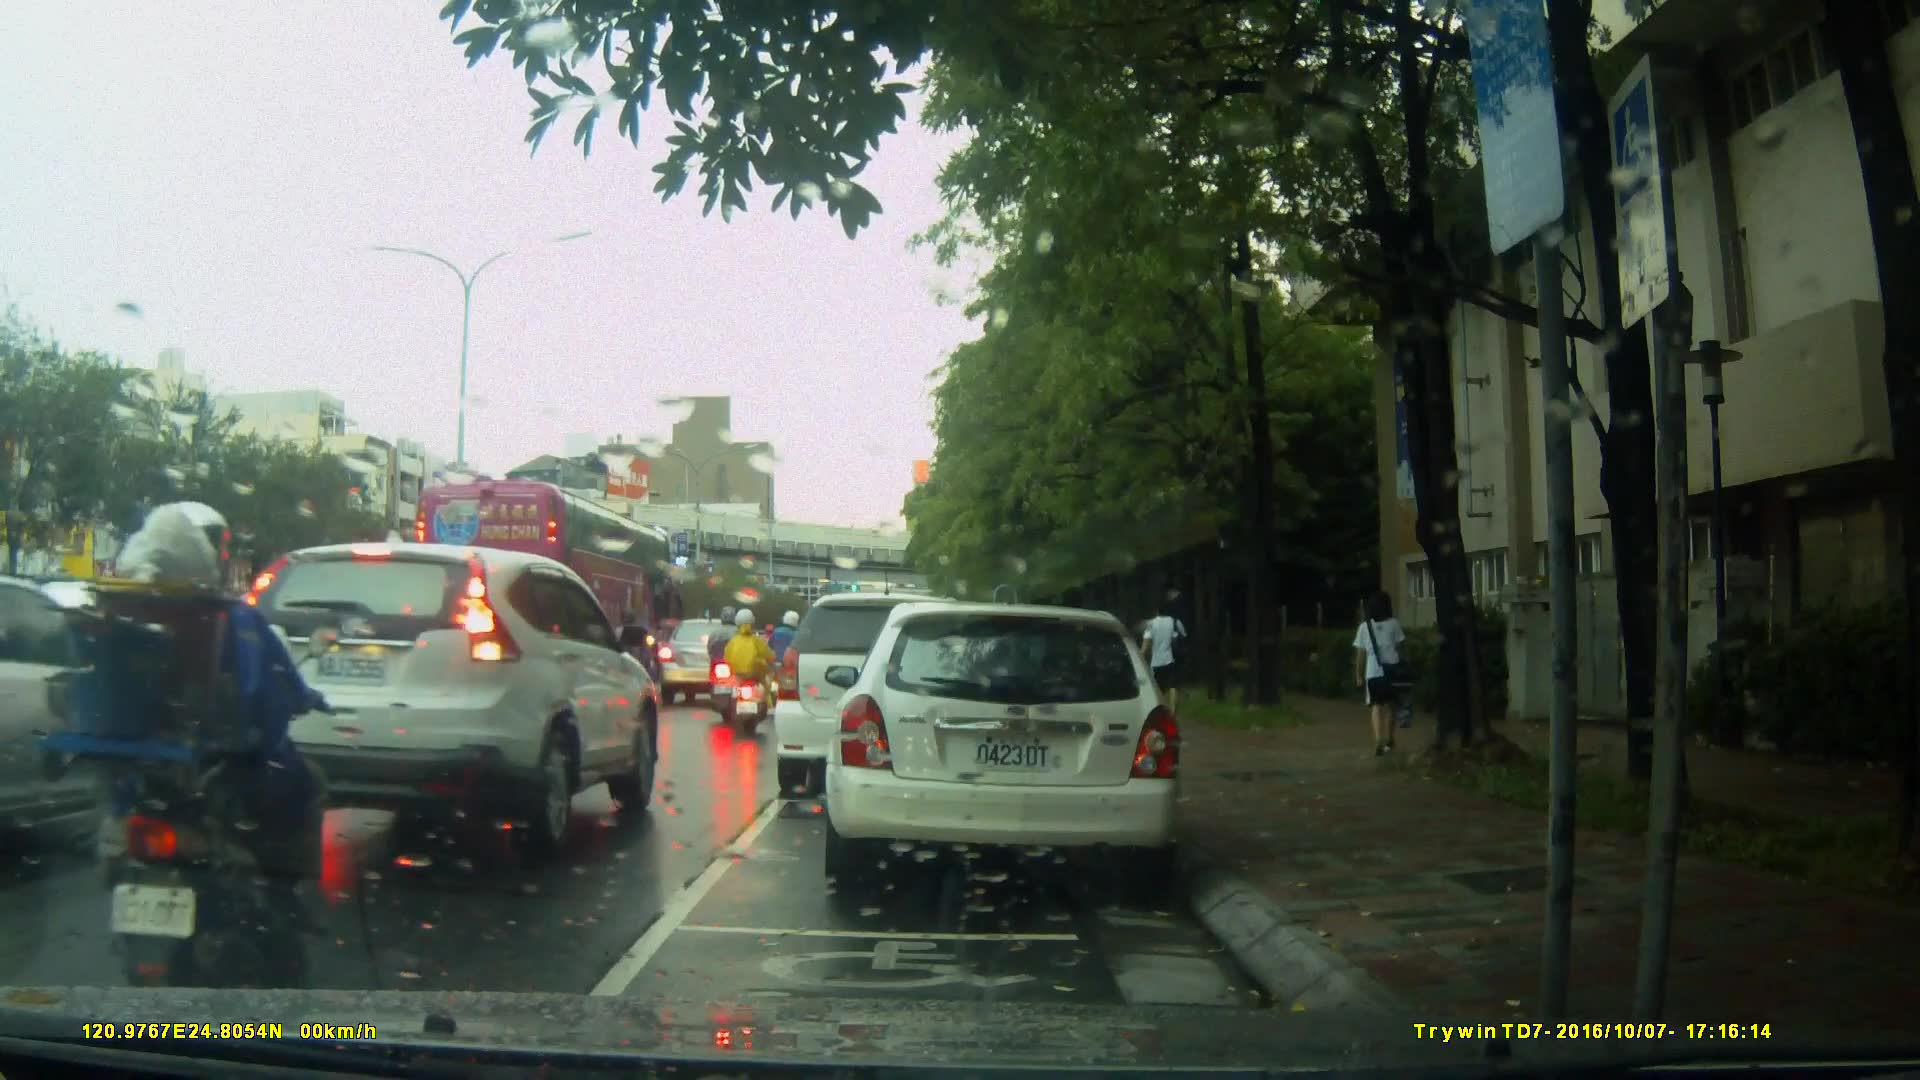pedestrian: (1339, 582, 1421, 772), (1140, 592, 1189, 720)
rider: (44, 502, 333, 1011), (722, 607, 771, 738), (702, 600, 753, 718), (768, 605, 809, 709)
vehicle: (227, 541, 665, 857), (835, 594, 1194, 898), (406, 479, 689, 676), (776, 590, 1026, 784), (654, 616, 764, 704)
